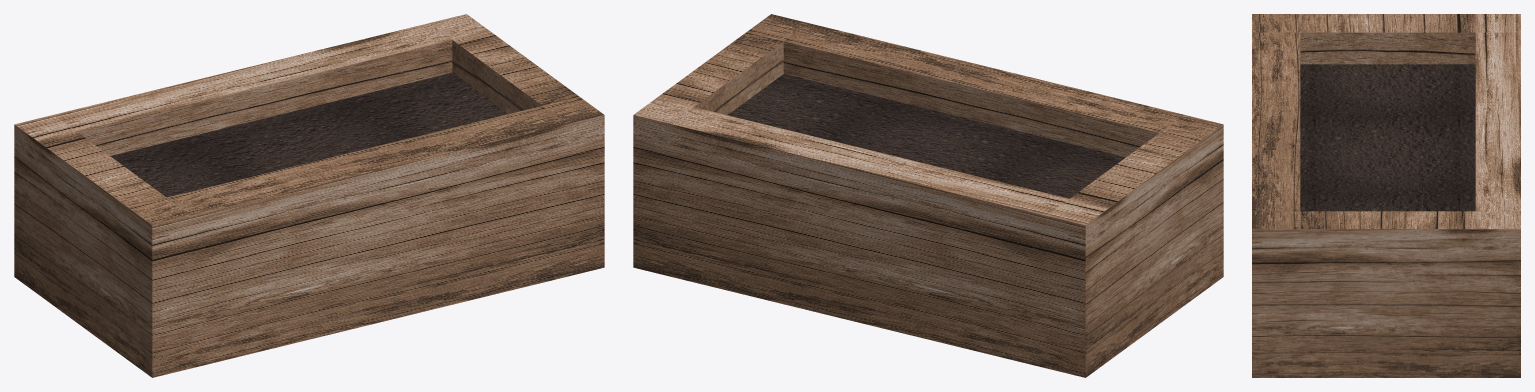
The model's file is flowerBox.fbx.
The picture shows the model from 3 angles, left to right: view 1: azimuth 30°, elevation 25°; view 2: azimuth 150°, elevation 25°; view 3: azimuth 270°, elevation 25°; orthographic projection. The views are drawn at different scales.
Parts seen in each view (by area): view 1: pCube1; view 2: pCube1; view 3: pCube1.
Part boxes in pixels (x1,y1,x2,y2): pCube1: [14, 14, 604, 377]; pCube1: [633, 14, 1223, 377]; pCube1: [1252, 14, 1520, 377].
Size of the model in its own units: 6.01 by 1.94 by 3.18.
Materials: 2 (2 with a texture image).
